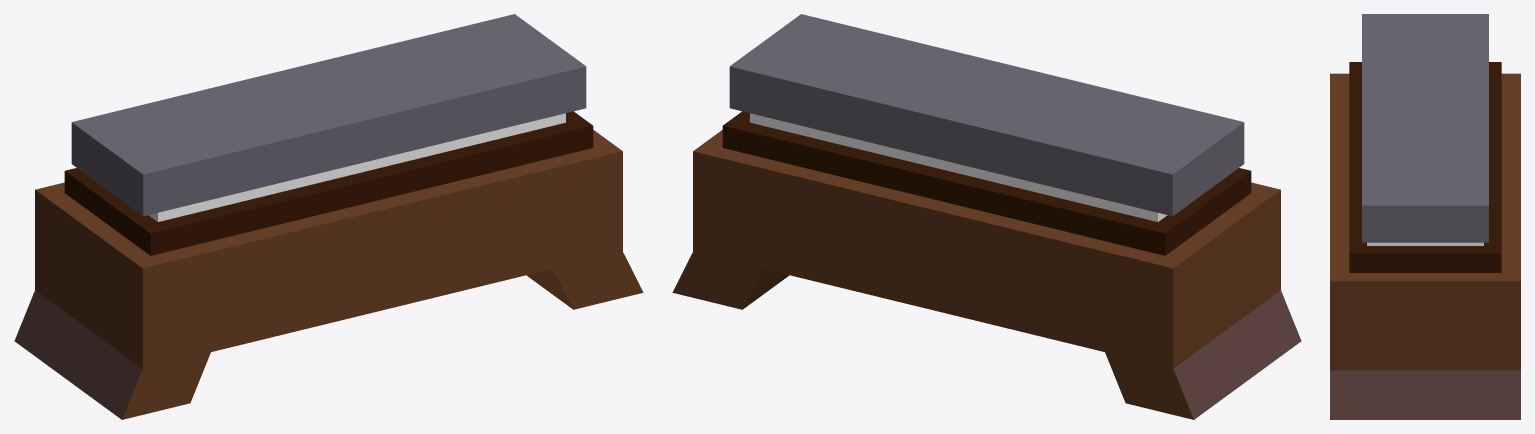
File: Res01_Sharping_Stone.fbx
The picture shows the model from 3 angles, left to right: view 1: azimuth 30°, elevation 25°; view 2: azimuth 150°, elevation 25°; view 3: azimuth 270°, elevation 25°; orthographic projection. The views are drawn at different scales.
Parts seen in each view (by area): view 1: Res01_Sharping_Stone; view 2: Res01_Sharping_Stone; view 3: Res01_Sharping_Stone.
Boxes of the visible parts, bbox=[...] form: Res01_Sharping_Stone: bbox=[14, 14, 643, 419]; Res01_Sharping_Stone: bbox=[672, 14, 1301, 419]; Res01_Sharping_Stone: bbox=[1330, 14, 1520, 419].
Size of the model in its own units: 75.73 by 30.9 by 27.07.
